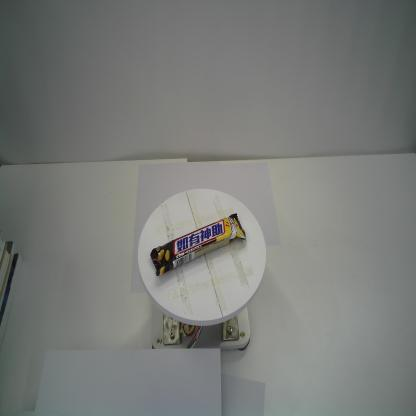Chocolate: (149, 211, 247, 277)
